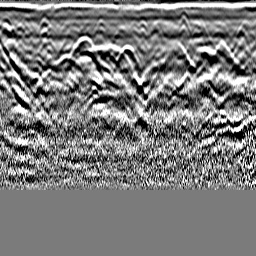cavity: (115, 44, 138, 66)
